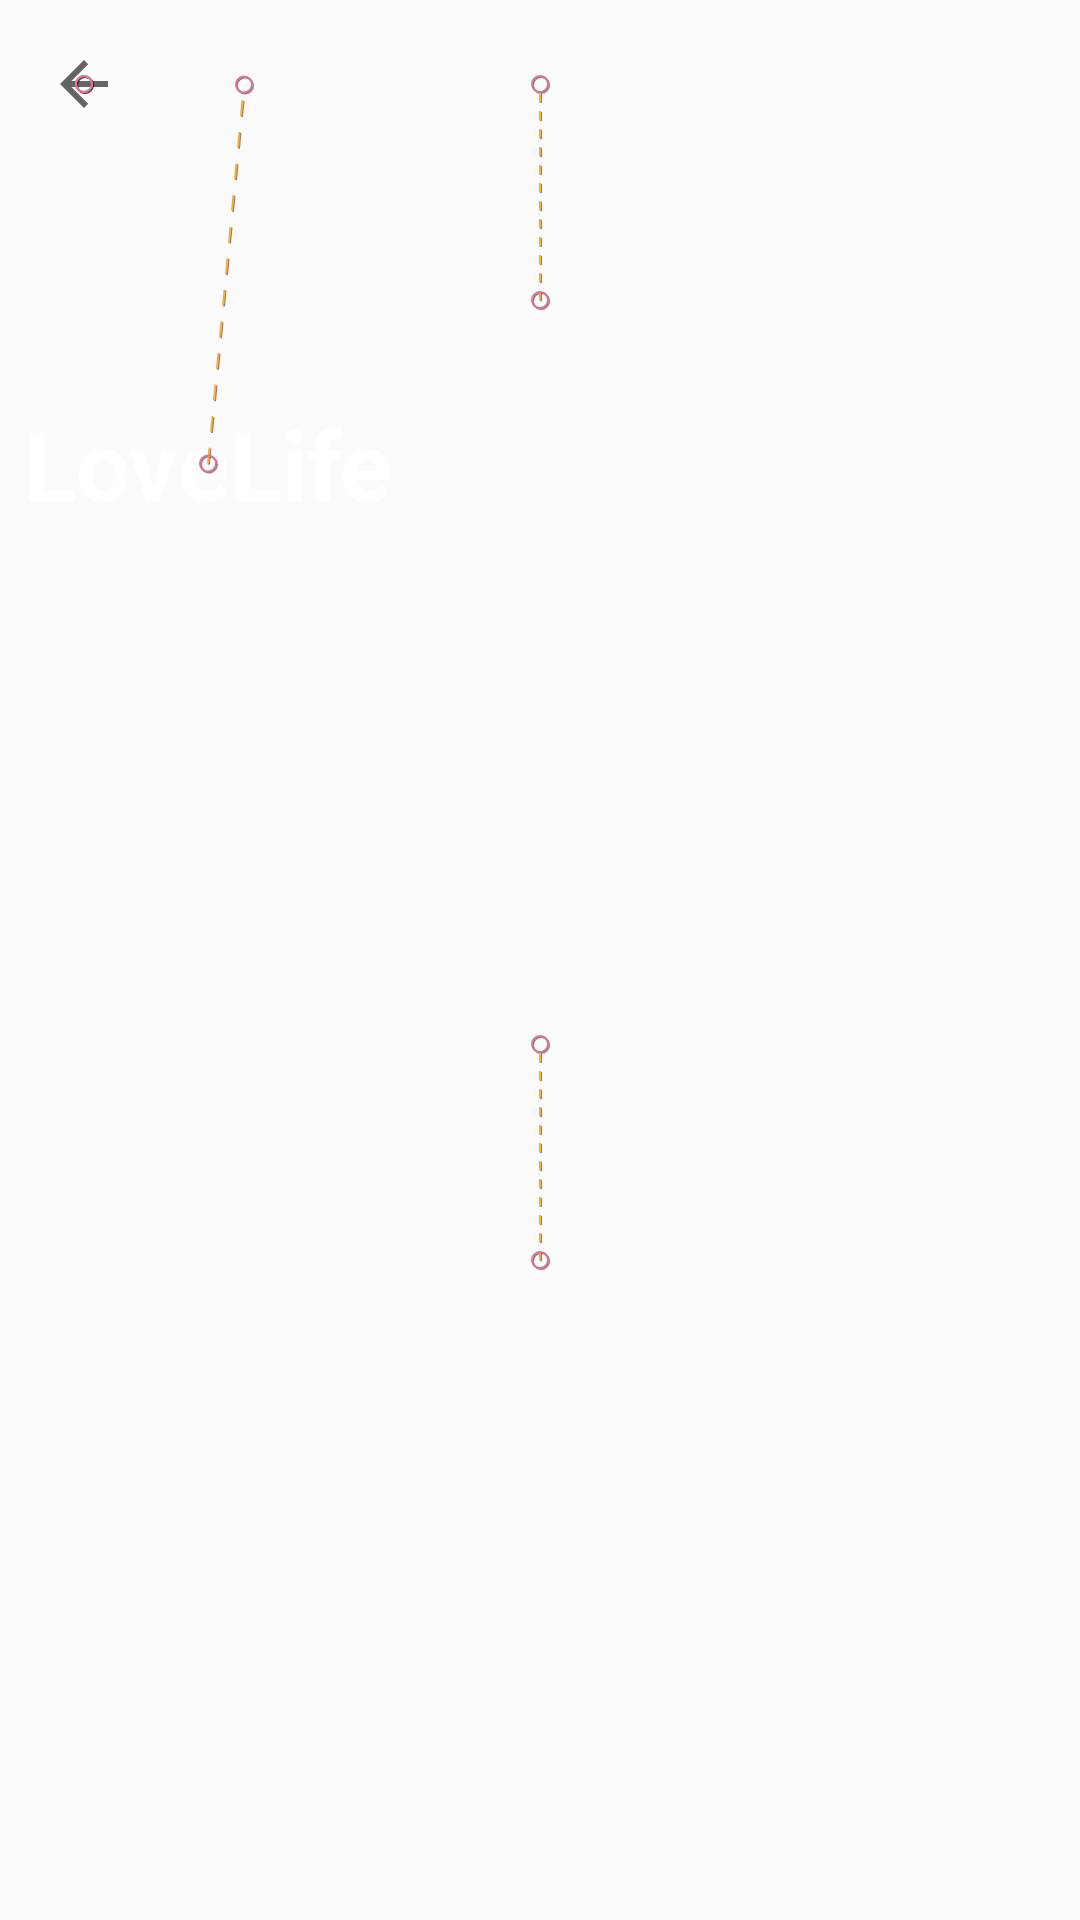

Icon bounding boxes for this 1080x1920 phone screenshot, format (x1, y1, x2, y2):
ab back: (60, 60, 108, 108)
